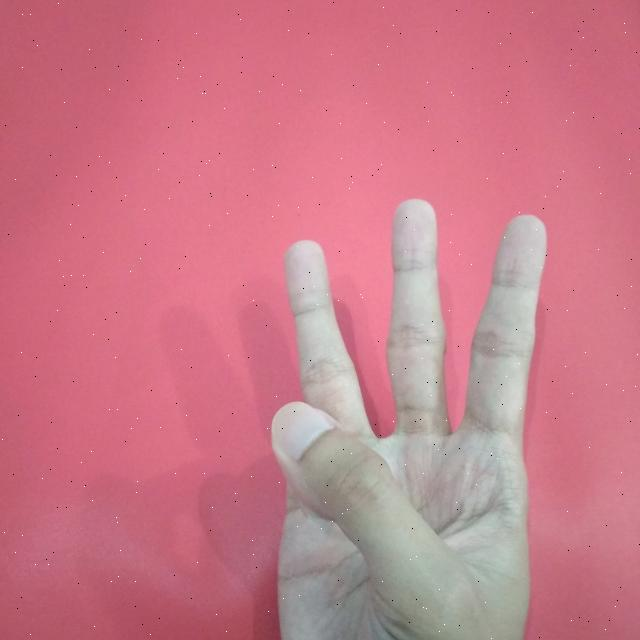W: (261, 190, 548, 640)
